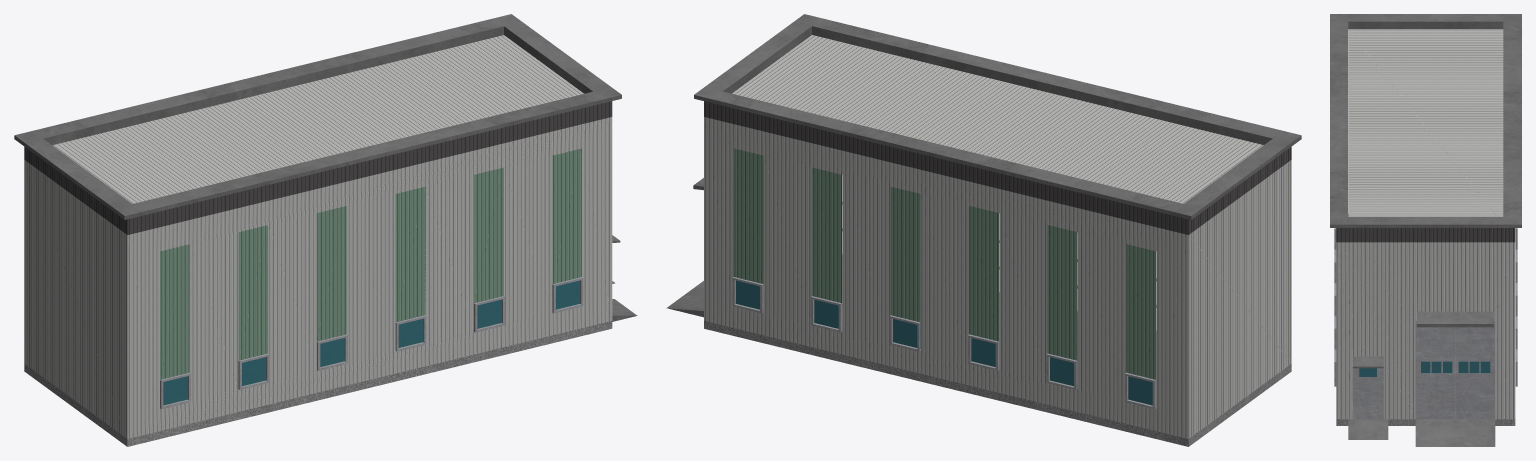
Rendered from 备品备件库.glb.
3 renders of one model, left to right at view 1: azimuth 30°, elevation 25°; view 2: azimuth 150°, elevation 25°; view 3: azimuth 270°, elevation 25°, orthographic. The views are drawn at different scales.
Visible parts, largest first — view 1: 备品备件库01, 备品备件库03, 备品备件库00, 备品备件库02, 备品备件库06, 备品备件库05, 备品备件库04; view 2: 备品备件库01, 备品备件库03, 备品备件库00, 备品备件库02, 备品备件库06, 备品备件库05, 备品备件库04; view 3: 备品备件库01, 备品备件库00, 备品备件库04, 备品备件库02, 备品备件库05, 备品备件库06.
Boxes of the visible parts, x1,y1,x2,y2 form: 备品备件库01: (24, 35, 612, 438); 备品备件库03: (160, 148, 581, 379); 备品备件库00: (14, 14, 637, 321); 备品备件库02: (24, 101, 612, 234); 备品备件库06: (24, 321, 612, 446); 备品备件库05: (163, 280, 579, 405); 备品备件库04: (160, 277, 583, 409); 备品备件库01: (704, 35, 1291, 438); 备品备件库03: (734, 148, 1155, 379); 备品备件库00: (666, 14, 1301, 317); 备品备件库02: (704, 101, 1291, 234); 备品备件库06: (704, 254, 1291, 446); 备品备件库05: (736, 279, 1152, 405); 备品备件库04: (732, 201, 1156, 409); 备品备件库01: (1336, 29, 1515, 419); 备品备件库00: (1330, 14, 1521, 446); 备品备件库04: (1334, 228, 1517, 419); 备品备件库02: (1336, 228, 1515, 242); 备品备件库05: (1359, 361, 1490, 376); 备品备件库06: (1336, 214, 1515, 425).
Size of the model in its own units: 22.58 by 9.39 by 8.
Materials: 7 (7 with a texture image).
